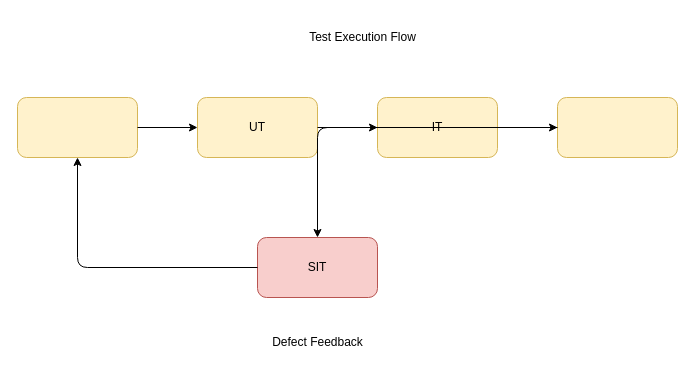
This 695x374 diagram has some shape labels left out. Here are the shapes that lost their labels. From the top down, the centre of each, then its label:
At point 77,127: "PBT".
At point 617,127: "E2E-API".
